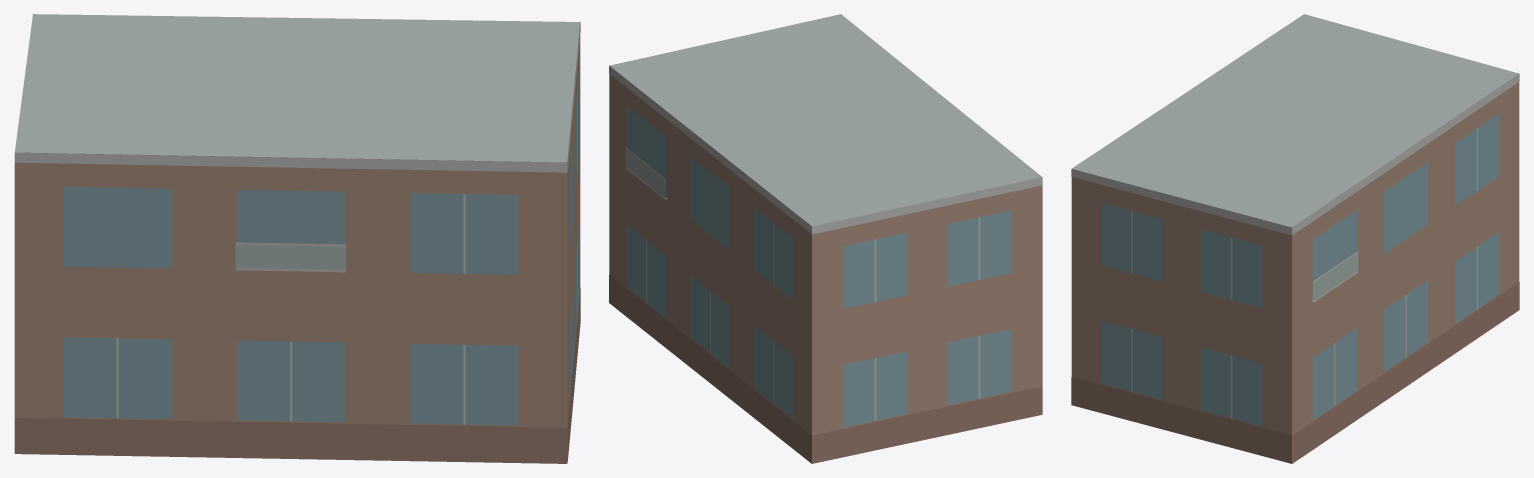
Rendered from survey-upis-32542742.glb.
The picture shows the model from 3 angles, left to right: view 1: azimuth 30°, elevation 25°; view 2: azimuth 150°, elevation 25°; view 3: azimuth 270°, elevation 25°; orthographic projection. The views are drawn at different scales.
Visible parts, largest first — view 1: survey-upis-32542742.tmp; view 2: survey-upis-32542742.tmp; view 3: survey-upis-32542742.tmp.
Boxes of the visible parts, left/top/right/bottom form: survey-upis-32542742.tmp: left=14, top=14, right=580, bottom=463; survey-upis-32542742.tmp: left=609, top=14, right=1042, bottom=463; survey-upis-32542742.tmp: left=1071, top=14, right=1519, bottom=463.
Bounding box in the file's own units: 13.96 × 7.2 × 12.38.
